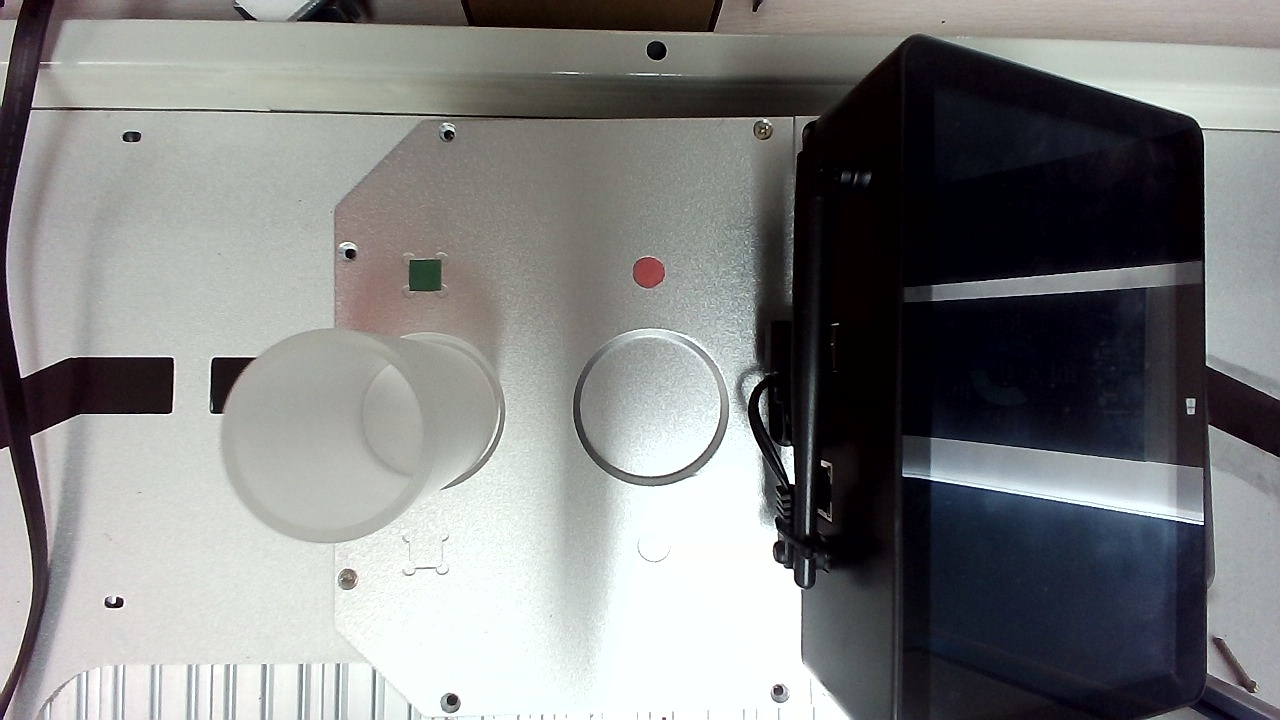bad: (649, 545, 695, 590), (295, 143, 342, 187), (469, 171, 514, 214), (658, 197, 699, 242), (787, 81, 826, 125), (272, 29, 313, 70), (706, 617, 747, 658), (845, 496, 886, 536), (359, 101, 395, 142), (538, 611, 574, 652), (781, 16, 814, 60), (799, 50, 836, 89), (814, 229, 852, 266), (409, 239, 451, 272), (743, 273, 780, 310), (832, 374, 871, 409), (724, 1, 758, 41), (614, 478, 651, 513), (282, 1, 319, 35), (329, 118, 365, 152), (811, 426, 845, 459)
defact: (669, 167, 708, 202)
pass: (620, 285, 667, 330), (296, 622, 336, 665), (530, 567, 569, 611), (643, 587, 686, 626), (847, 410, 882, 456), (465, 489, 502, 532), (446, 597, 481, 641), (537, 303, 575, 341), (441, 128, 481, 164), (534, 22, 569, 62), (788, 315, 825, 352), (667, 623, 703, 660), (686, 574, 715, 619), (596, 30, 631, 64), (834, 49, 866, 84)
toolong: (740, 423, 808, 472), (702, 294, 758, 337), (418, 85, 456, 142)
unpass: (267, 428, 313, 473), (792, 351, 837, 395), (481, 591, 522, 637), (370, 316, 410, 358), (343, 1, 385, 40), (620, 33, 658, 75), (748, 634, 786, 676), (808, 462, 845, 502), (811, 27, 848, 67), (756, 1, 790, 44), (401, 284, 439, 322), (332, 40, 369, 79), (490, 17, 526, 57), (517, 333, 552, 373), (565, 2, 600, 41), (817, 496, 853, 533), (345, 137, 382, 173), (549, 343, 585, 380), (842, 209, 876, 248), (799, 388, 835, 424), (607, 562, 641, 599), (726, 247, 760, 282), (767, 44, 797, 83)
